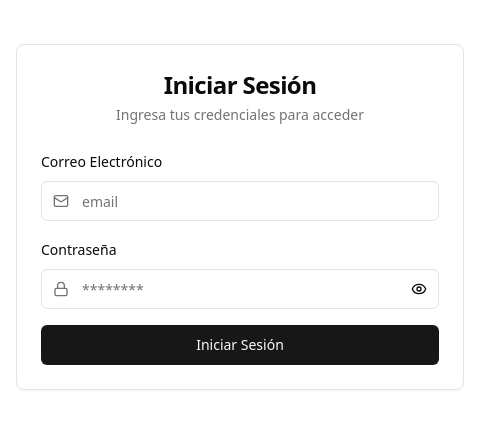
Test case: LoginForm › should show error on empty submit
Click the button "Iniciar Sesión": (240, 345) [41,325,439,365]
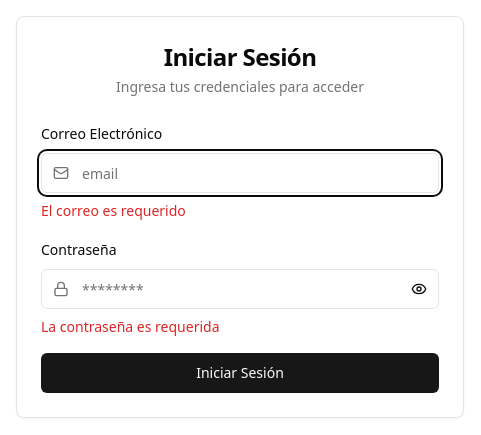
Result: the text "El correo es requerido" is shown at [41,201,186,220]
